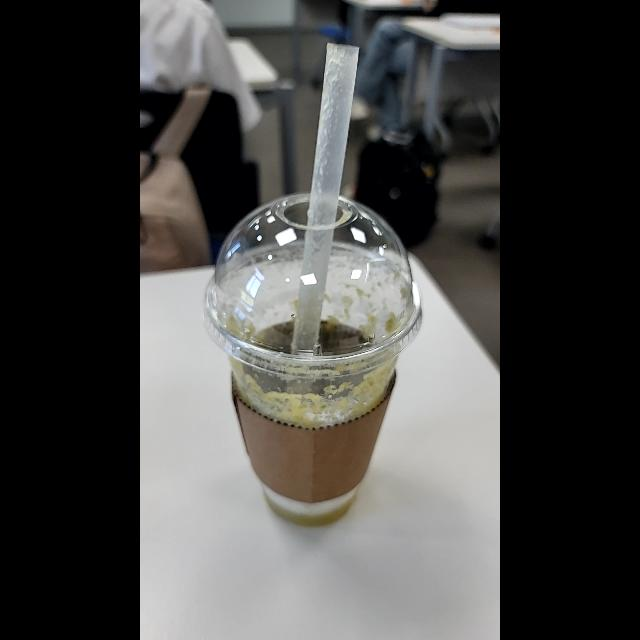plastic_cup: (199, 188, 445, 532)
plastic_cup_lid: (196, 187, 422, 371)
straw: (292, 47, 362, 356)
